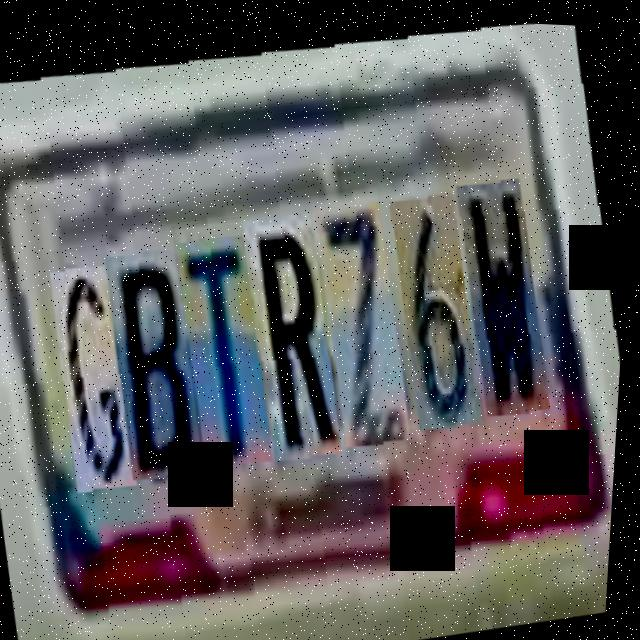6: (377, 173, 497, 419)
B: (92, 223, 221, 466)
G: (37, 240, 151, 476)
R: (230, 190, 357, 449)
T: (163, 211, 287, 455)
W: (445, 161, 565, 407)
Z: (302, 181, 425, 436)
